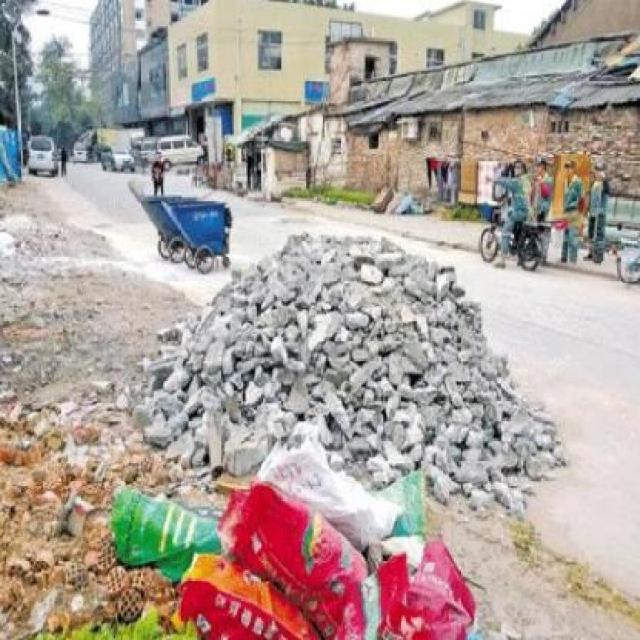garbage: (95, 471, 412, 630)
